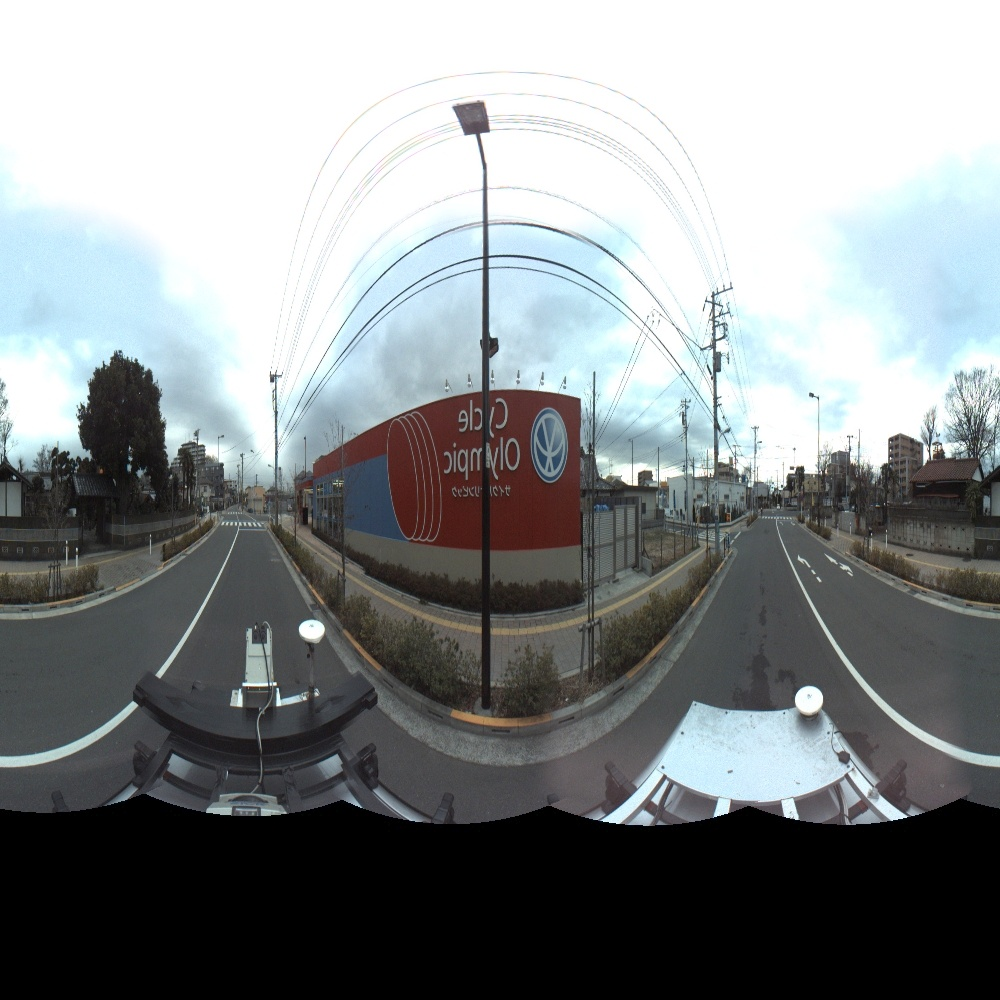crosswalk: (698, 530, 730, 541), (220, 522, 264, 527)
light: (451, 98, 498, 713), (808, 391, 824, 528)
